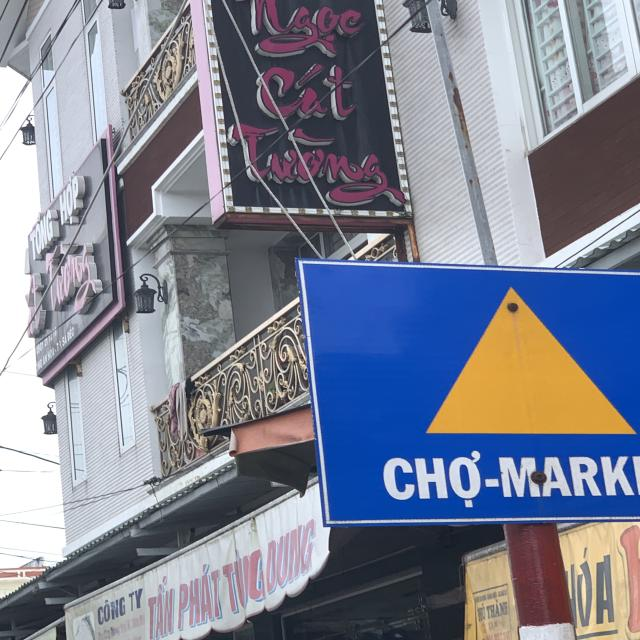Cho_Quay_Xe: (307, 261, 640, 522)
